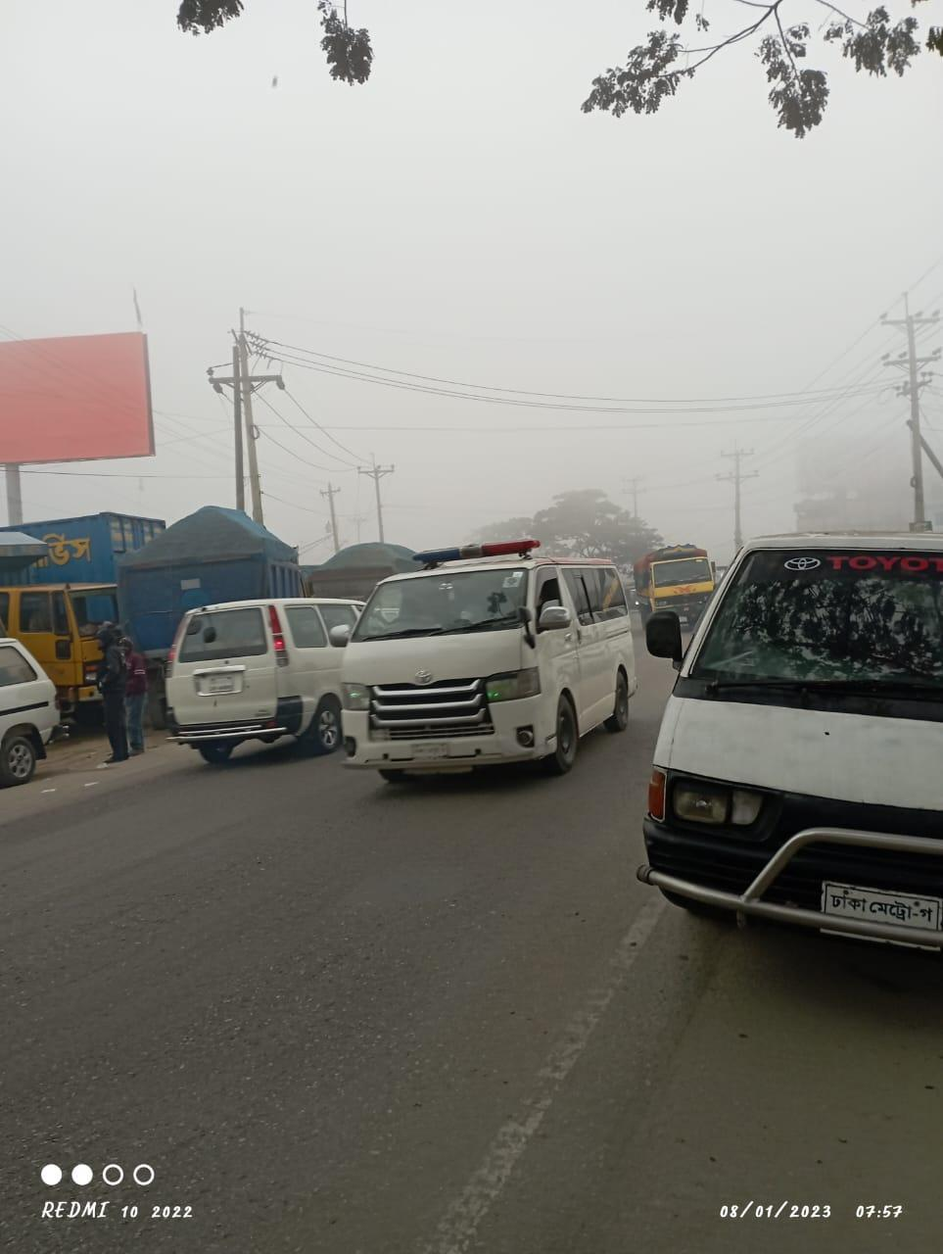Car: (642, 520, 943, 983), (322, 536, 643, 767), (166, 596, 339, 752)
Truck: (121, 514, 280, 639), (623, 536, 725, 631)
